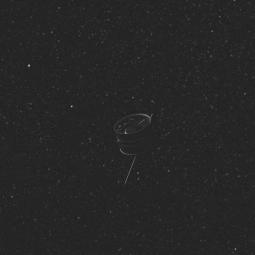double_start: (106, 103, 163, 161)
